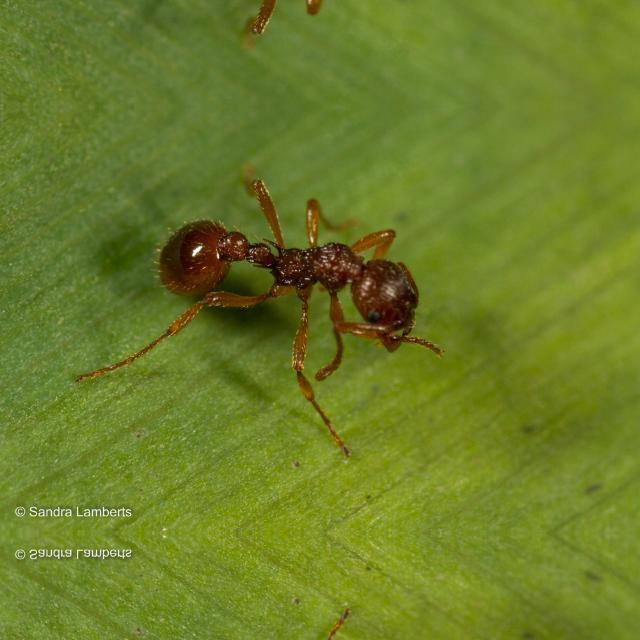Myrmica: (137, 158, 469, 386), (137, 0, 469, 54)
